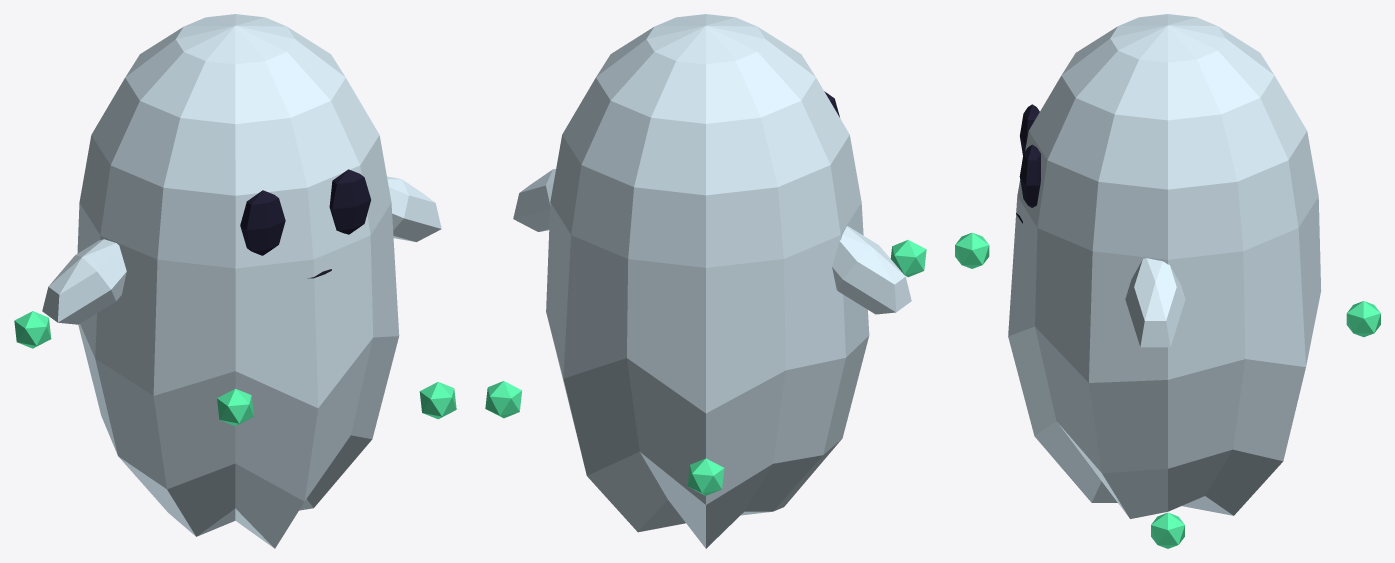
Rendered from FriendlyGhost.fbx.
3 views of the same model, side by side, from view 1: azimuth 30°, elevation 25°; view 2: azimuth 150°, elevation 25°; view 3: azimuth 270°, elevation 25° (orthographic). The views are drawn at different scales.
Visible parts, largest first — view 1: FriendlyGhost_Glow, FriendlyGhost; view 2: FriendlyGhost_Glow; view 3: FriendlyGhost_Glow, FriendlyGhost.
Boxes of the visible parts, x1,y1,x2,y2 form: FriendlyGhost_Glow: (14, 14, 456, 548); FriendlyGhost: (240, 169, 370, 278); FriendlyGhost_Glow: (485, 14, 926, 548); FriendlyGhost_Glow: (955, 14, 1380, 548); FriendlyGhost: (1016, 104, 1040, 223).
Size of the model in its own units: 365 by 420 by 339.
Materials: 1 (1 with a texture image).
